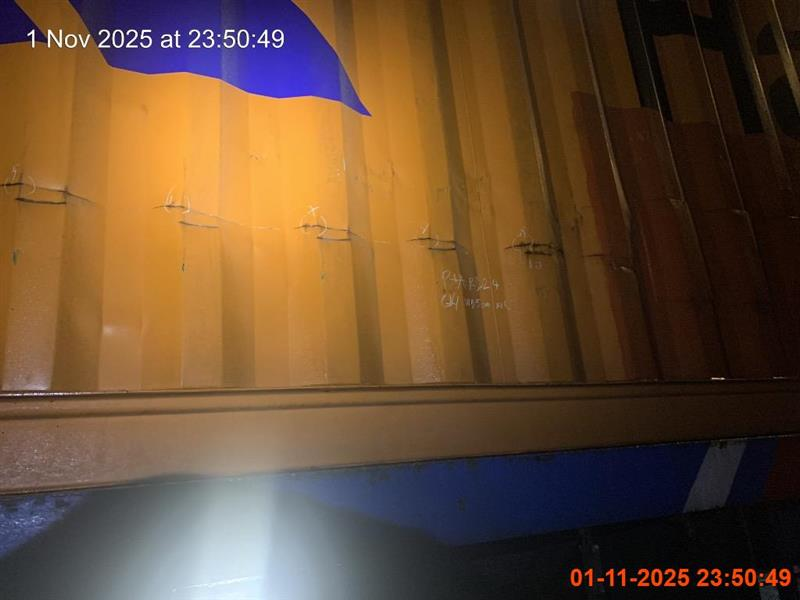crack: (0, 0, 370, 118)
